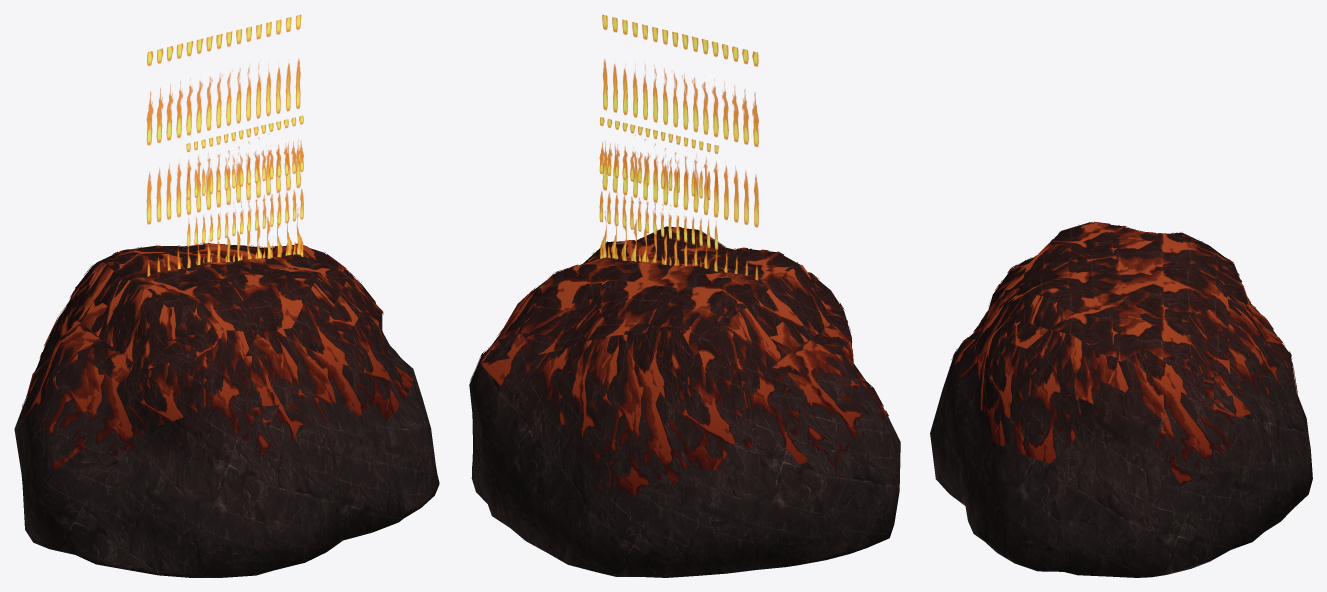
Rendered from mm6_deco_burningrock.glb.
3 renders of one model, left to right at view 1: azimuth 30°, elevation 25°; view 2: azimuth 150°, elevation 25°; view 3: azimuth 270°, elevation 25°, orthographic. The views are drawn at different scales.
Parts seen in each view (by area): view 1: BurningRock; view 2: BurningRock; view 3: BurningRock.
Part boxes in pixels (x1,y1,x2,y2): BurningRock: (14,14,439,577); BurningRock: (469,14,900,577); BurningRock: (930,221,1312,577).
Bounding box in the file's own units: 1.84 × 2.07 × 1.63.
Materials: 3 (3 with a texture image).
